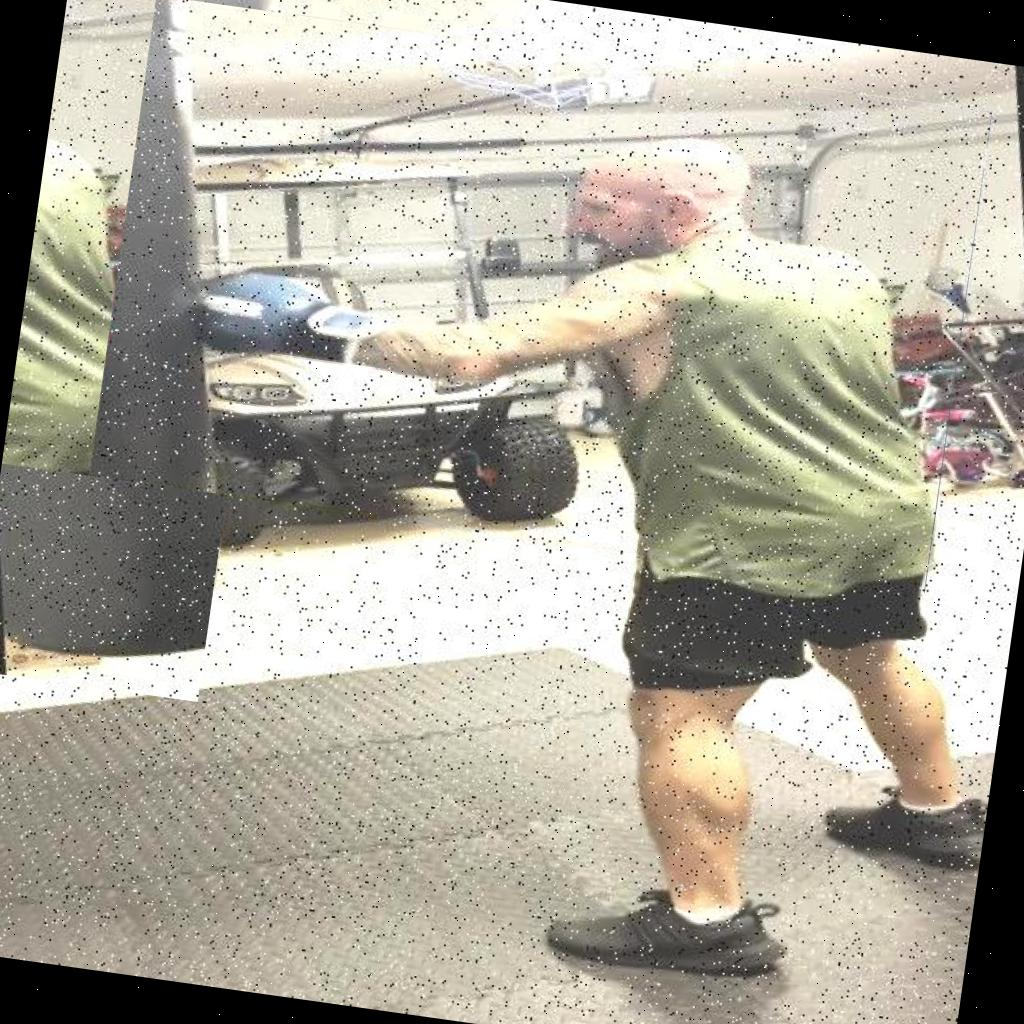bag: (0, 0, 299, 702)
jab: (89, 0, 992, 593)
